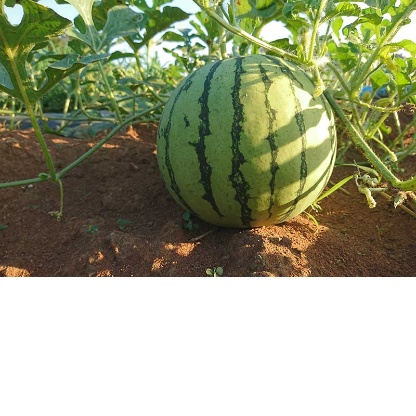duahau: (146, 47, 349, 223)
